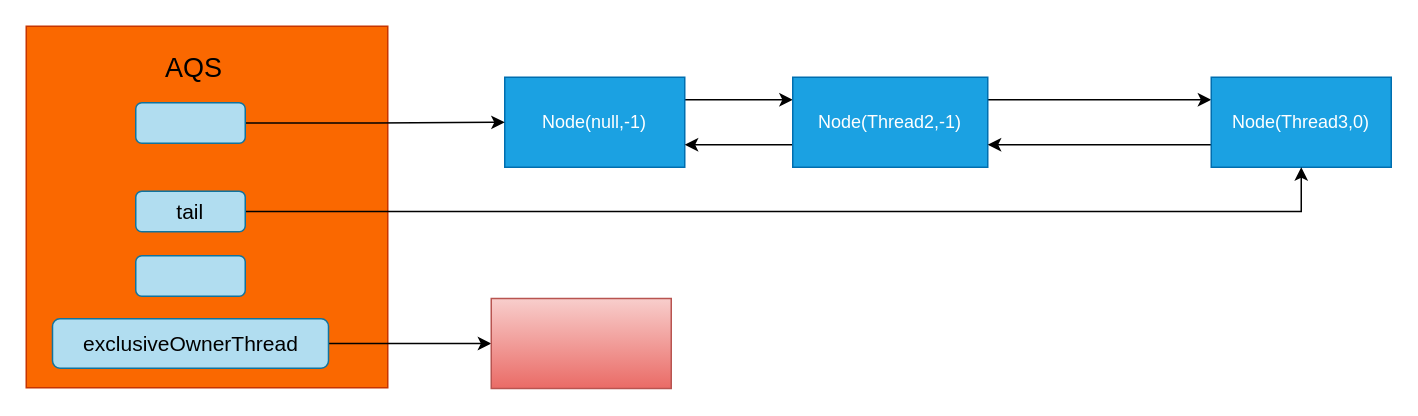
Image size: 1418x416. Some labels were removed from this diagram. The shapes that lost their labels are listed below. From the top down, each one's centre as x and y in pixels, then its label:
(189,122): head
(189,275): state=1
(580,342): Thread1
